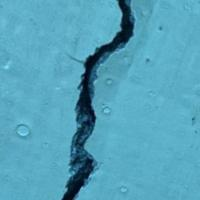crack: (49, 1, 141, 199)
